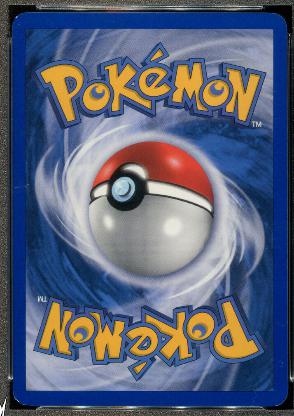Card: (9, 9, 291, 409)
Corner Wear: (12, 392, 30, 406), (267, 394, 287, 406), (10, 14, 19, 28)
Scratch: (275, 356, 283, 368), (250, 390, 255, 406)
